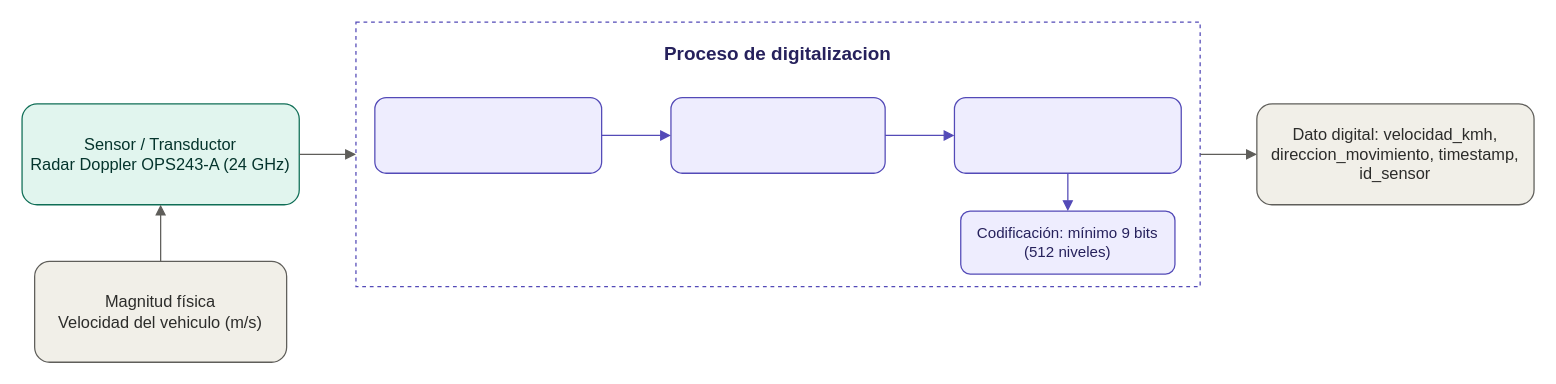
The diagram is 1556 pixels wide and 384 high, and some of its shapes have lost their labels. The shapes that lost their labels are listed below. From the top down, each one's centre as x and y in pixels, then its label:
point (488, 134): Muestreo 20.000 muestras/s Ts = 0,05 ms
point (777, 134): Procesamiento: FFT → cálculo de velocidad
point (1067, 134): Cuantificación Resolución = 0,4356 km/h
